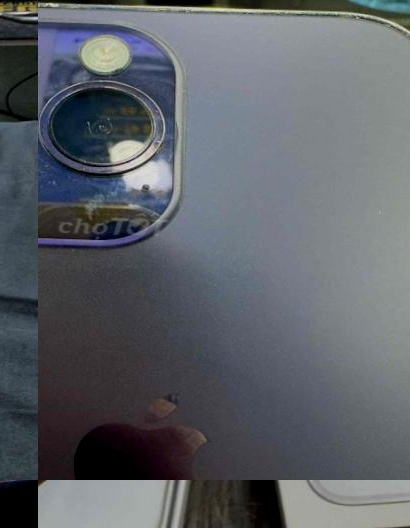scratch: (38, 0, 410, 57), (38, 167, 207, 234), (38, 96, 75, 159), (0, 480, 17, 499)
